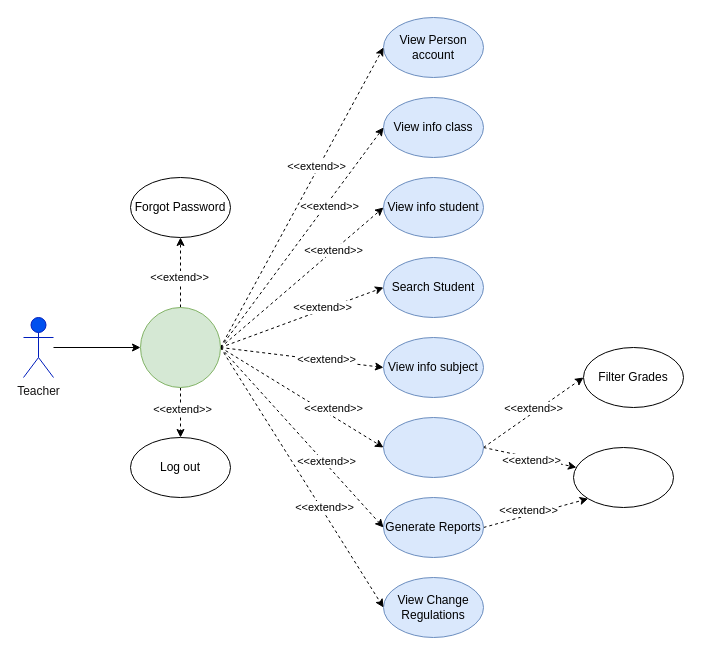
This 701x655 diagram has some shape labels left out. Here are the shapes that lost their labels. From the top down, the centre of each, then its label:
(x=180, y=347): Log in
(x=433, y=447): Manage Grades
(x=623, y=477): export to PDF
